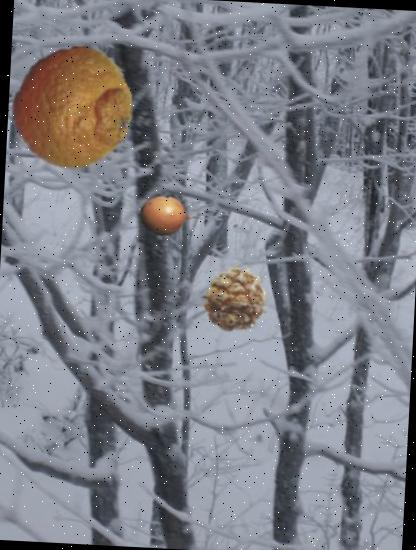Granadilla: (138, 186, 200, 247)
Mandarine: (6, 42, 138, 174)
Pineapple: (199, 262, 273, 336)
